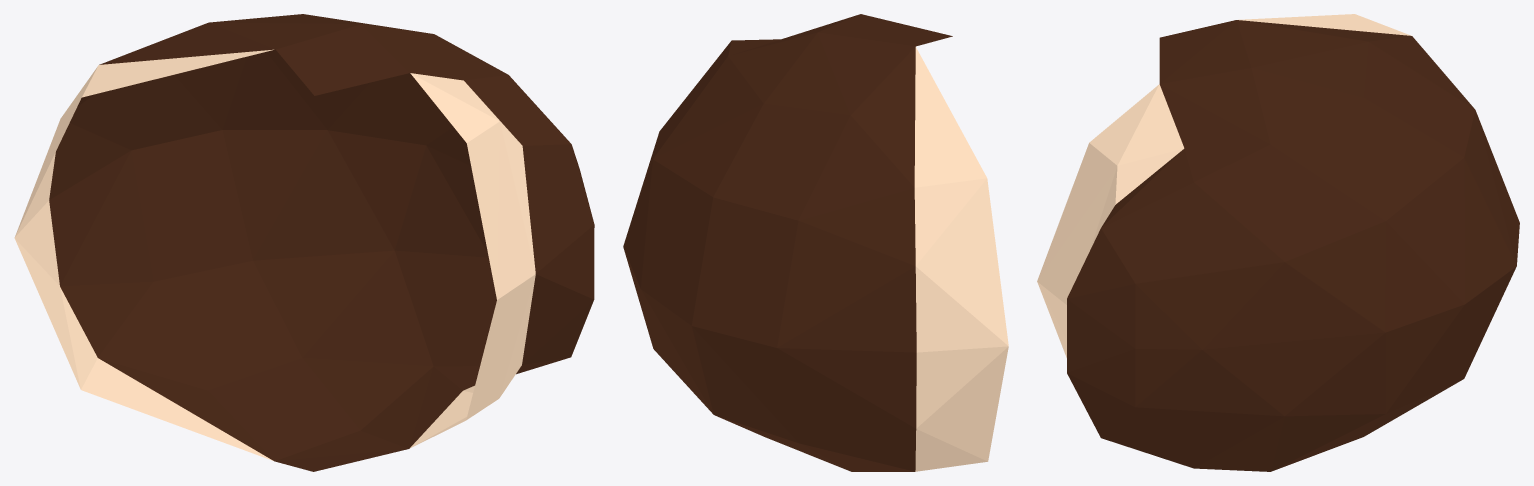
Rendered from hair28.glb.
3 views of the same model, side by side, from view 1: azimuth 30°, elevation 25°; view 2: azimuth 150°, elevation 25°; view 3: azimuth 270°, elevation 25° (orthographic). The views are drawn at different scales.
Parts seen in each view (by area): view 1: tomodachi-2026-03-17-09-08-04-466, tomodachi-2026-03-17-09-08-04-466.008; view 2: tomodachi-2026-03-17-09-08-04-466, tomodachi-2026-03-17-09-08-04-466.008; view 3: tomodachi-2026-03-17-09-08-04-466, tomodachi-2026-03-17-09-08-04-466.008.
Part boxes in pixels (x1,y1,x2,y2): tomodachi-2026-03-17-09-08-04-466: (49,14,594,471); tomodachi-2026-03-17-09-08-04-466.008: (14,49,535,460); tomodachi-2026-03-17-09-08-04-466: (623,14,952,471); tomodachi-2026-03-17-09-08-04-466.008: (914,47,1008,471); tomodachi-2026-03-17-09-08-04-466: (1067,20,1519,471); tomodachi-2026-03-17-09-08-04-466.008: (1037,14,1411,357).
Size of the model in its own units: 1.16 by 1.04 by 1.12.
2 materials, 2 textured.
